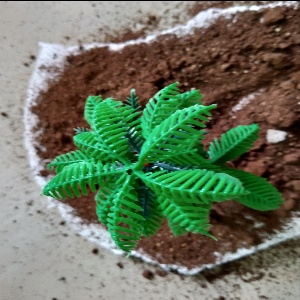plant: (41, 84, 280, 241)
